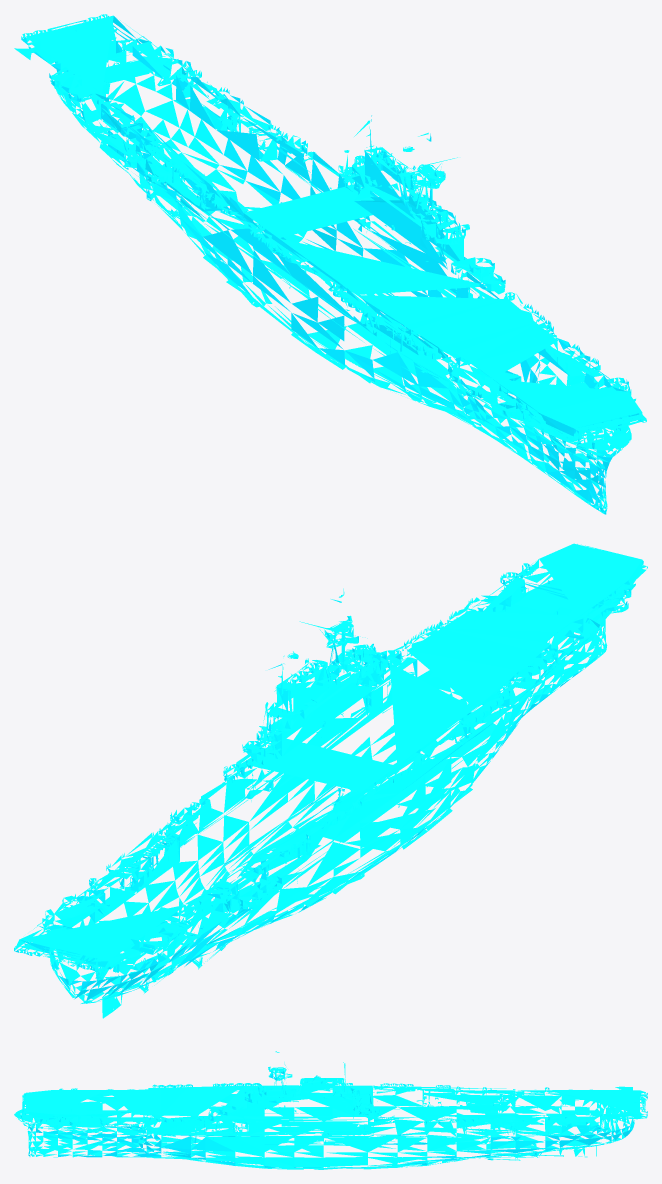
File: Yorktown.glb
The picture shows the model from 3 angles, top to bottom: view 1: azimuth 30°, elevation 25°; view 2: azimuth 150°, elevation 25°; view 3: azimuth 270°, elevation 25°; orthographic projection. The views are drawn at different scales.
Size of the model in its own units: 2.68 by 3.57 by 16.8.
